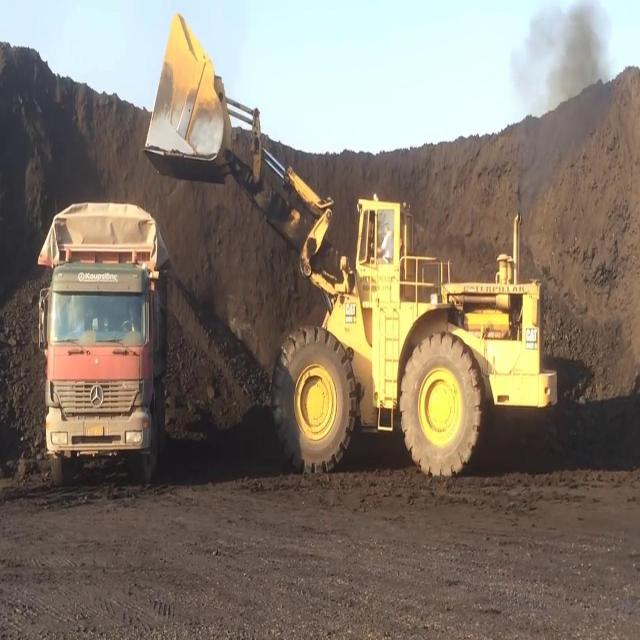buldozerpayloadergrader: (144, 5, 560, 487)
dump_truck: (33, 198, 169, 502)
